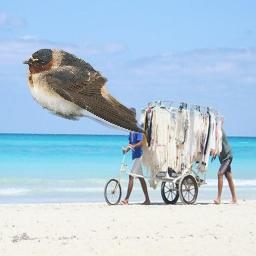Swallow: (22, 48, 148, 134)
